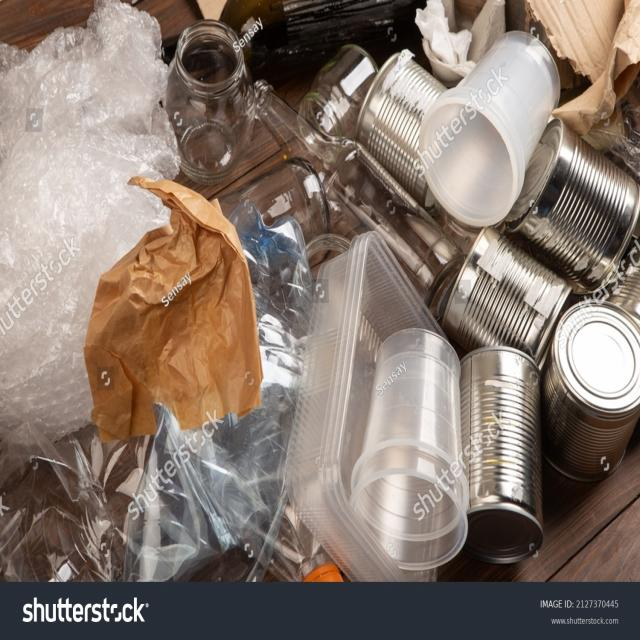metal: (470, 352, 554, 542), (544, 130, 632, 281), (562, 312, 640, 468), (450, 228, 556, 341)
paper: (101, 176, 256, 434)
plastic: (420, 7, 547, 212), (11, 8, 162, 168), (378, 320, 461, 594)
